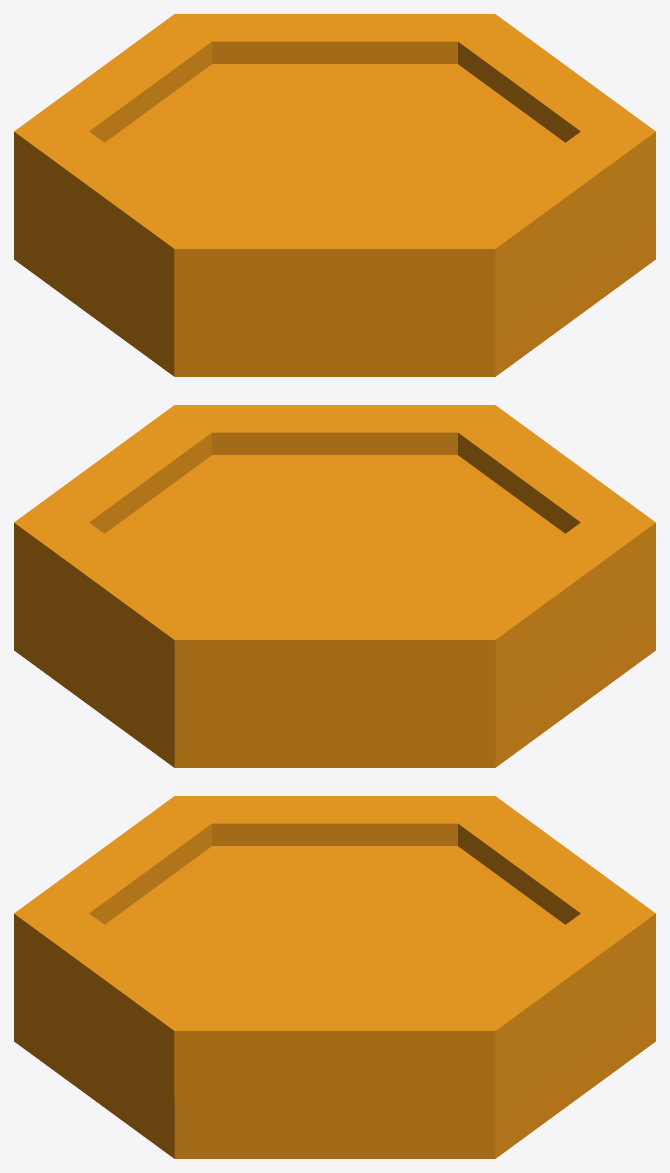
Rendered from Coin_02.fbx.
The picture shows the model from 3 angles, top to bottom: view 1: azimuth 30°, elevation 25°; view 2: azimuth 150°, elevation 25°; view 3: azimuth 270°, elevation 25°; orthographic projection.
Parts seen in each view (by area): view 1: Coin_02; view 2: Coin_02; view 3: Coin_02.
Part boxes in pixels (box(x1,y1,x2,y2)): Coin_02: box(14, 14, 655, 376); Coin_02: box(14, 405, 655, 767); Coin_02: box(14, 796, 655, 1158).
Bounding box in the file's own units: 0.118 × 0.03 × 0.1363.
